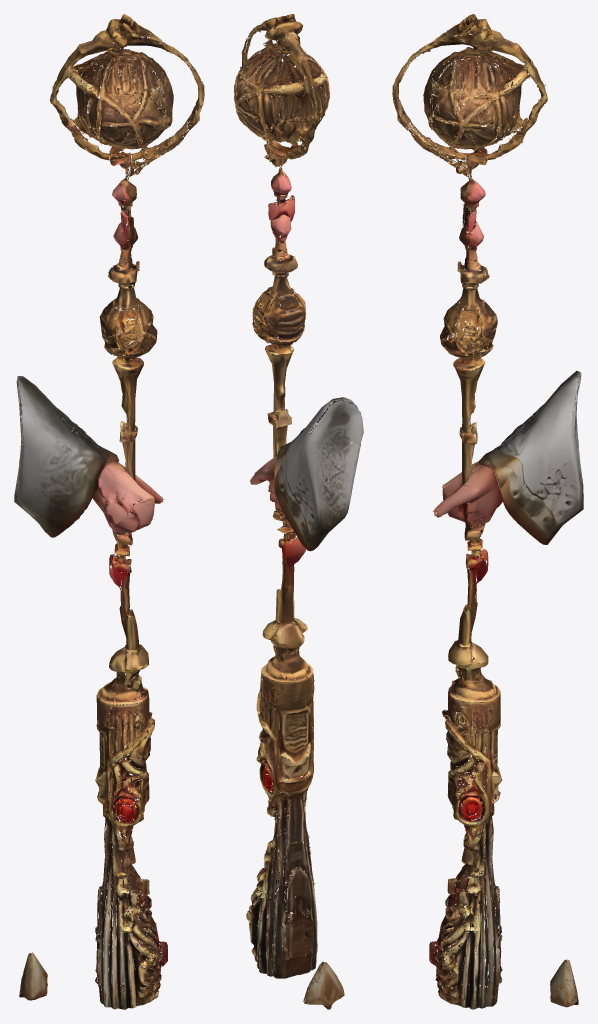
The model's file is valkra_staff.glb.
The picture shows the model from 3 angles, left to right: view 1: azimuth 90°, elevation 25°; view 2: azimuth 210°, elevation 25°; view 3: azimuth 270°, elevation 25°; orthographic projection. The views are drawn at different scales.
Visible parts, largest first — view 1: Valkyria_Sun_Staff; view 2: Valkyria_Sun_Staff; view 3: Valkyria_Sun_Staff.
Boxes of the visible parts, bbox=[...] form: Valkyria_Sun_Staff: bbox=[14, 14, 204, 1009]; Valkyria_Sun_Staff: bbox=[233, 14, 363, 1009]; Valkyria_Sun_Staff: bbox=[392, 14, 583, 1009].
Bounding box in the file's own units: 0.1736 × 1.9 × 0.3356.
Materials: 1 (1 with a texture image).
